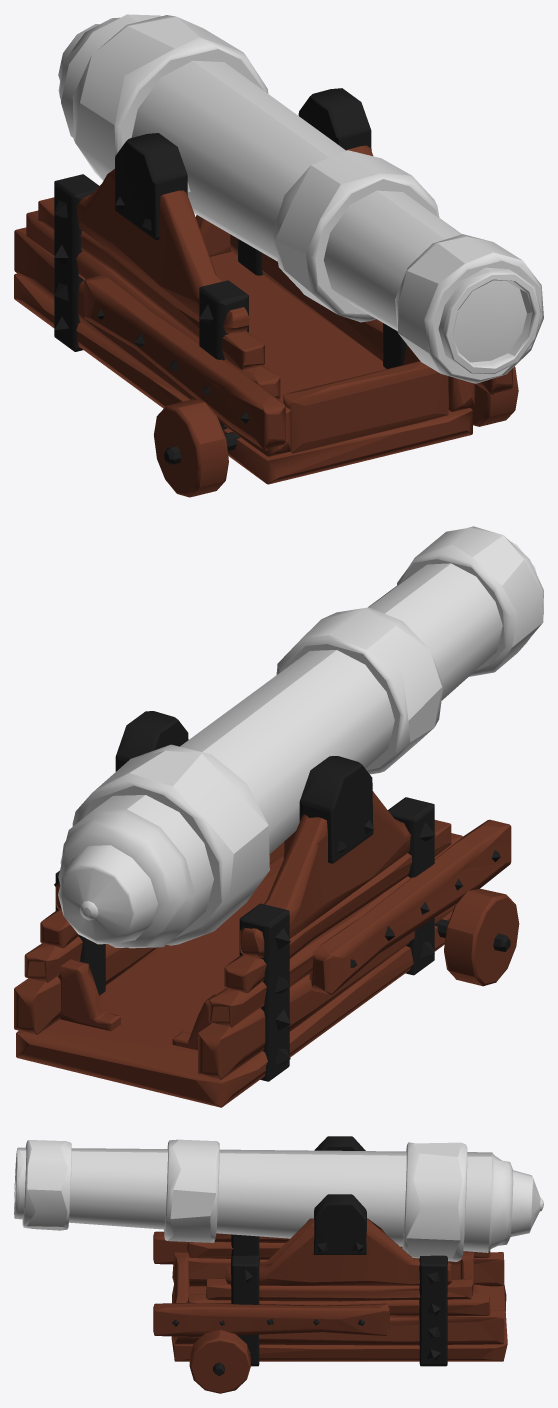
File: Env_Cannon.fbx
3 views of the same model, one above another, from view 1: azimuth 30°, elevation 25°; view 2: azimuth 150°, elevation 25°; view 3: azimuth 270°, elevation 25° (orthographic). The views are drawn at different scales.
Visible parts, largest first — view 1: Cannon_Base, Cannon_Barrel; view 2: Cannon_Base, Cannon_Barrel; view 3: Cannon_Base, Cannon_Barrel.
Boxes of the visible parts, <box> form: Cannon_Base: <box>14,88,518,497</box>; Cannon_Barrel: <box>58,14,543,383</box>; Cannon_Base: <box>14,711,519,1107</box>; Cannon_Barrel: <box>58,526,543,948</box>; Cannon_Base: <box>153,1136,507,1393</box>; Cannon_Barrel: <box>14,1139,543,1261</box>.
Size of the model in its own units: 3.91 by 3.36 by 8.08.
